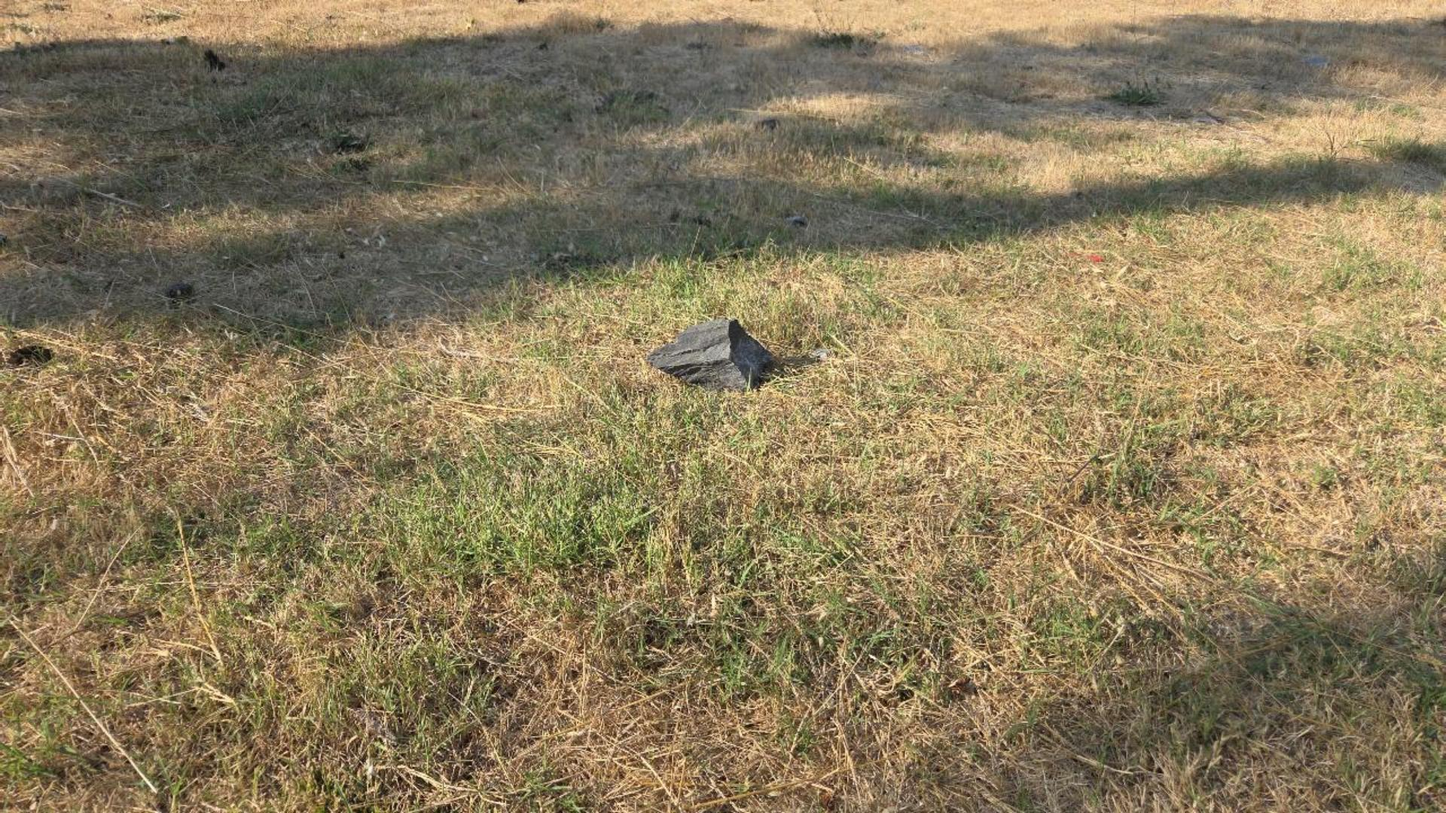rock: (646, 320, 772, 390)
